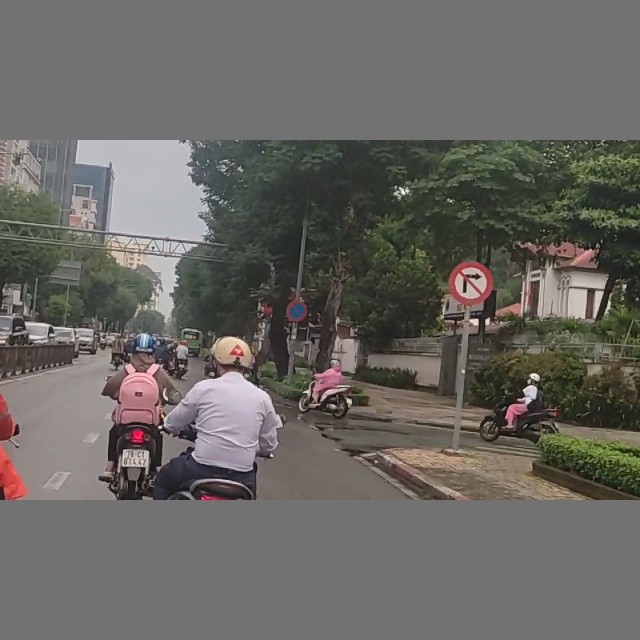P.123b: (447, 261, 493, 303)
P.131a: (285, 300, 308, 322)
